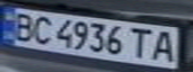3: (87, 20, 109, 54)
4: (51, 16, 75, 50)
6: (103, 22, 130, 56)
9: (69, 19, 90, 52)
A: (148, 28, 178, 63)
B: (6, 9, 39, 42)
C: (27, 13, 57, 46)
T: (124, 25, 157, 60)
